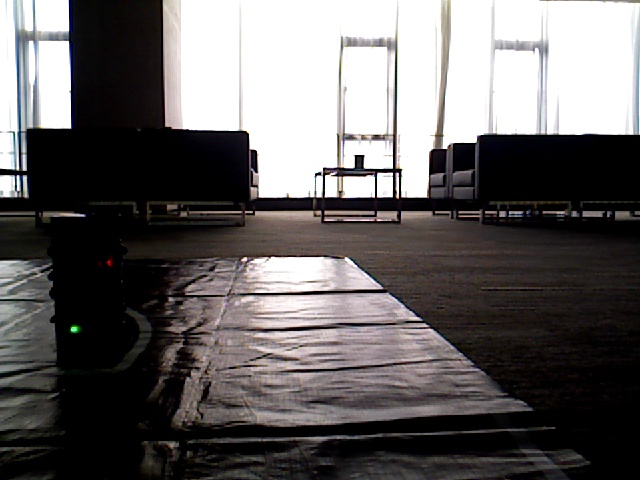green: (62, 244, 99, 362)
